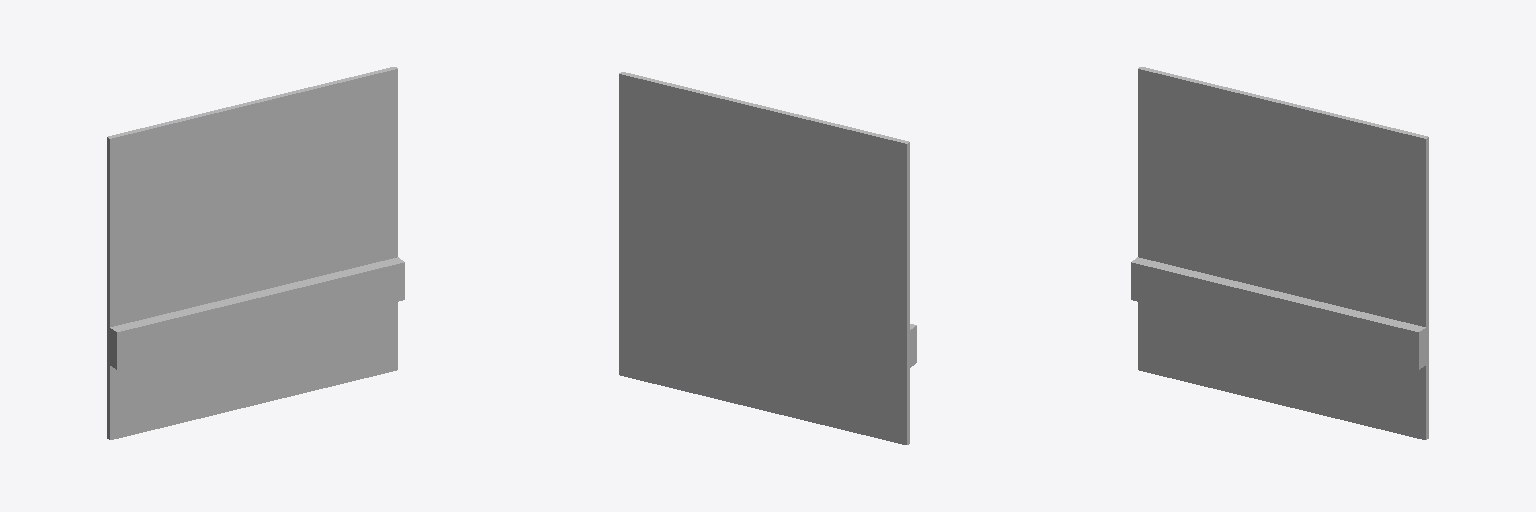
File: Hospital_Wall_Neutral.obj
The picture shows the model from 3 angles: view 1: azimuth 30°, elevation 25°; view 2: azimuth 150°, elevation 25°; view 3: azimuth 330°, elevation 25°; orthographic projection.
Visible parts, largest first — view 1: DefaultWall_DefaultWall; view 2: DefaultWall_DefaultWall; view 3: DefaultWall_DefaultWall.
Boxes of the visible parts, x1=… form: DefaultWall_DefaultWall: x1=107, y1=67, x2=404, y2=439; DefaultWall_DefaultWall: x1=619, y1=72, x2=916, y2=444; DefaultWall_DefaultWall: x1=1131, y1=67, x2=1428, y2=439.
Bounding box in the file's own units: 7.51 × 7.51 × 0.4535.